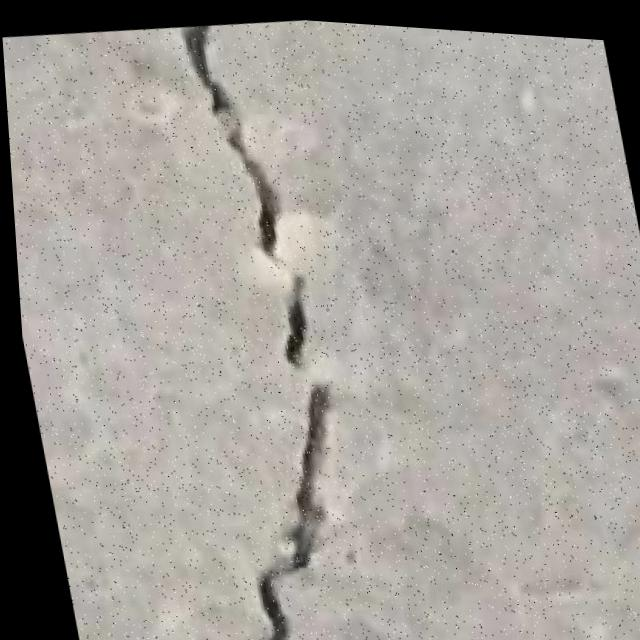Crack: (108, 9, 390, 640)
